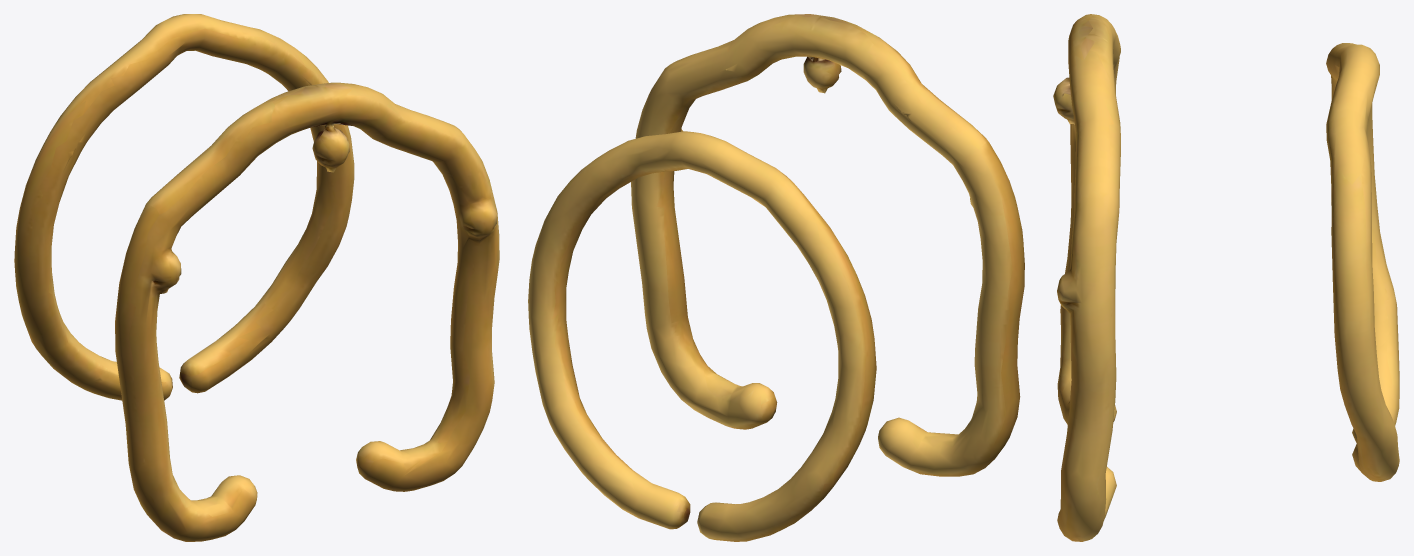
The model's file is trau_harness.glb.
3 views of the same model, side by side, from view 1: azimuth 30°, elevation 25°; view 2: azimuth 150°, elevation 25°; view 3: azimuth 270°, elevation 25° (orthographic). The views are drawn at different scales.
Parts seen in each view (by area): view 1: trau_harness; view 2: trau_harness; view 3: trau_harness.
Boxes of the visible parts, <box> form: trau_harness: <box>14,14,499,541</box>; trau_harness: <box>528,14,1024,541</box>; trau_harness: <box>1053,14,1399,541</box>.
Size of the model in its own units: 0.948 by 1.01 by 0.7044.
1 material, 1 textured.
